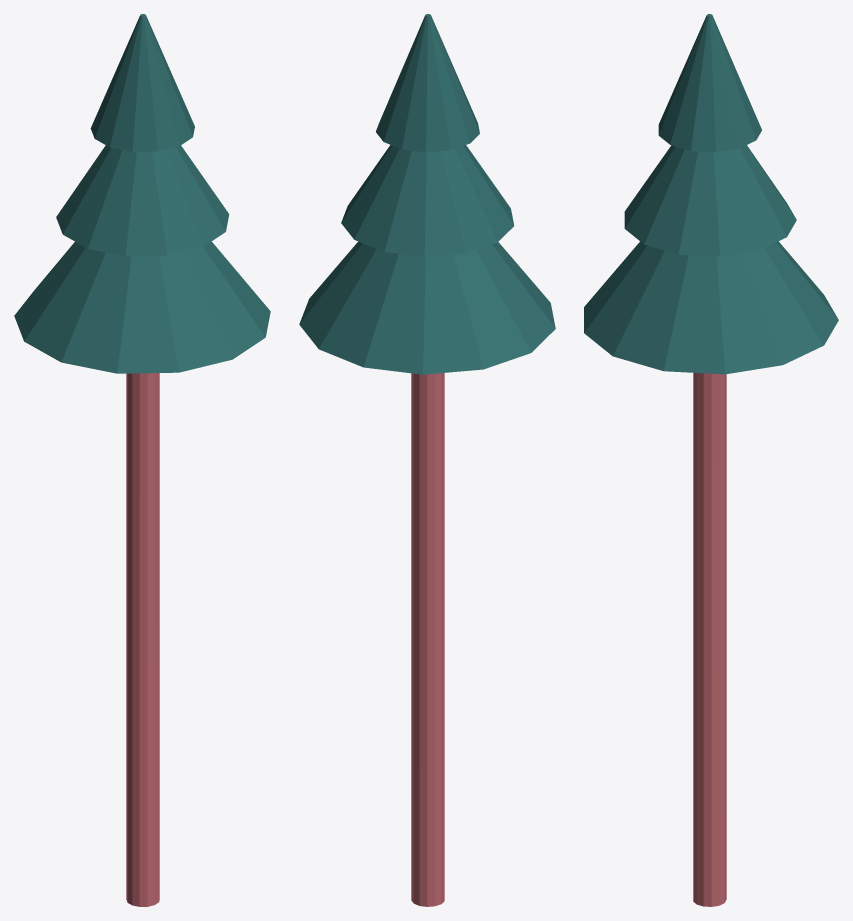
File: centenary_tree.glb
The picture shows the model from 3 angles, left to right: view 1: azimuth 30°, elevation 25°; view 2: azimuth 150°, elevation 25°; view 3: azimuth 270°, elevation 25°; orthographic projection.
Parts seen in each view (by area): view 1: Cylinder.040; view 2: Cylinder.040; view 3: Cylinder.040.
Part boxes in pixels (x1,y1,x2,y2): Cylinder.040: (14, 14, 270, 906); Cylinder.040: (299, 14, 555, 906); Cylinder.040: (584, 14, 838, 906).
Bounding box in the file's own units: 0.7271 × 2.76 × 0.7218.
